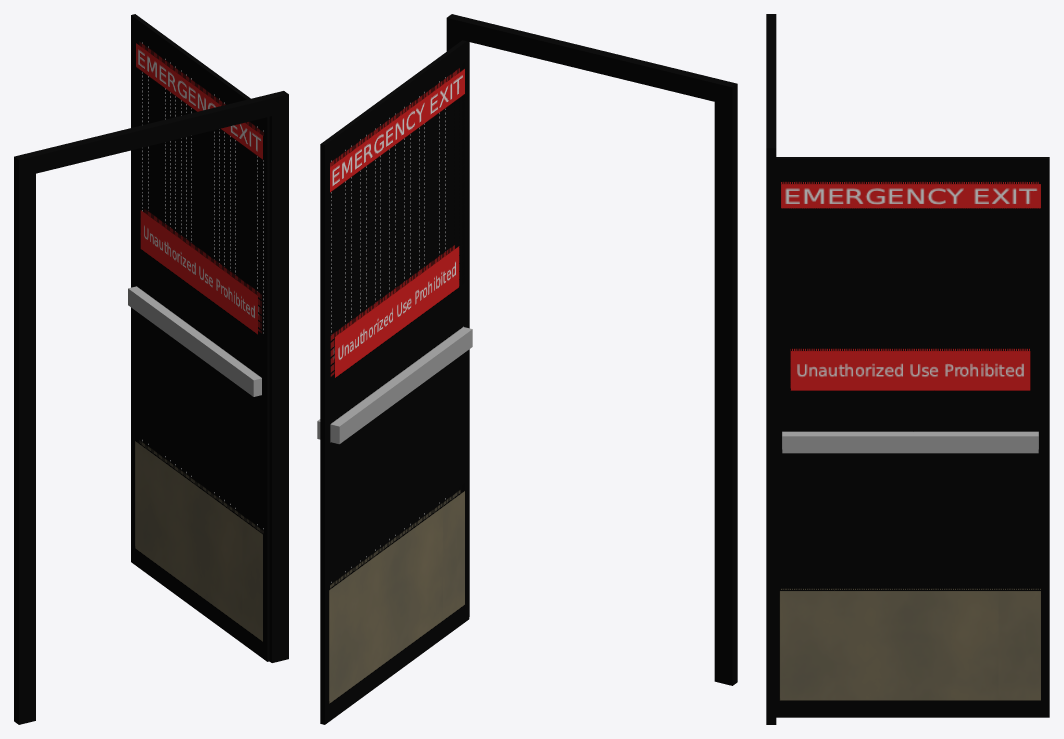
Rendered from nyc_subway_emergency_exit_door_open.obj.
3 views of the same model, side by side, from view 1: azimuth 30°, elevation 25°; view 2: azimuth 150°, elevation 25°; view 3: azimuth 270°, elevation 25° (orthographic). The views are drawn at different scales.
Visible parts, largest first — view 1: cube; view 2: cube; view 3: cube.
Boxes of the visible parts, x1,y1,x2,y2 form: cube: (14,14,288,724); cube: (317,14,737,724); cube: (766,14,1049,724).
Bounding box in the file's own units: 1 × 2 × 0.8906.
Materials: 1 (1 with a texture image).
